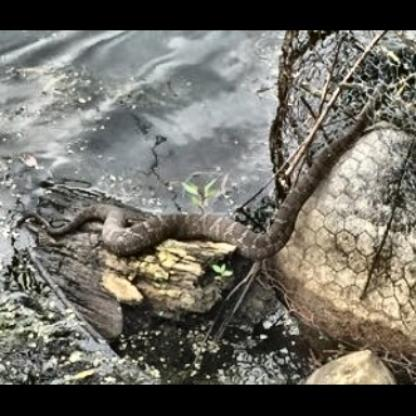Snake: (8, 53, 416, 365)
